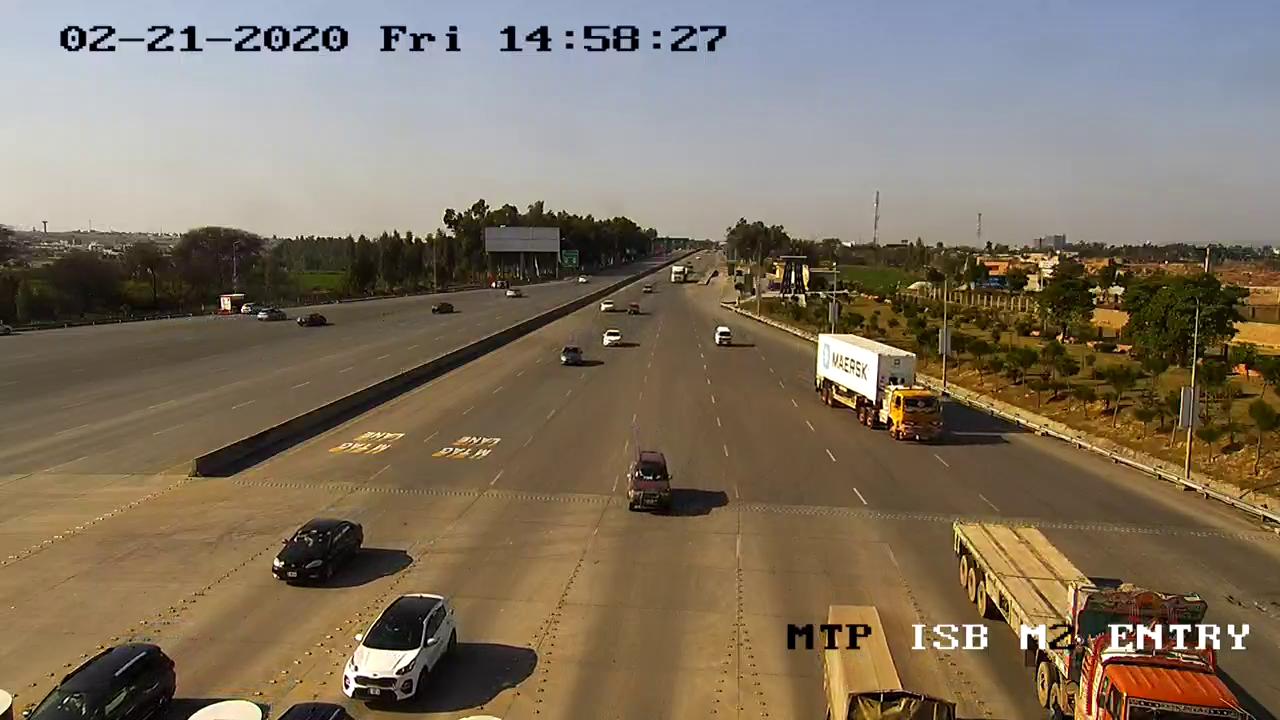f1: (332, 577, 469, 711), (260, 511, 372, 598), (614, 438, 682, 520)
f6: (797, 321, 949, 452)
